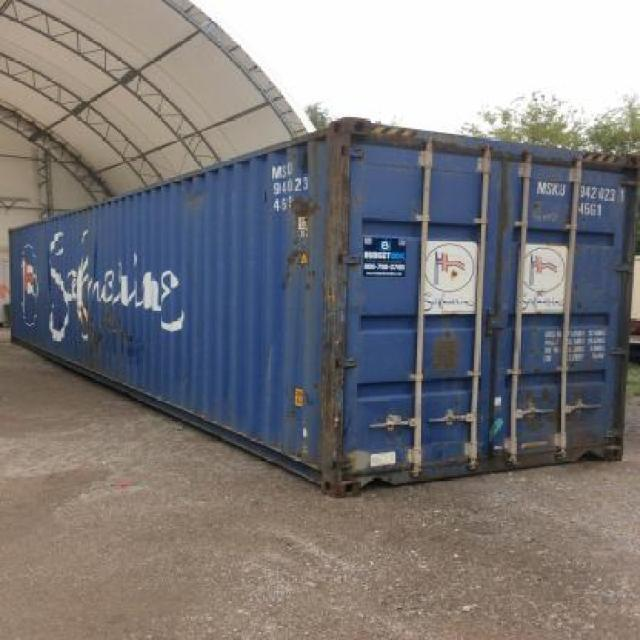ISO: (576, 202, 602, 218)
container_number: (536, 184, 628, 202)
